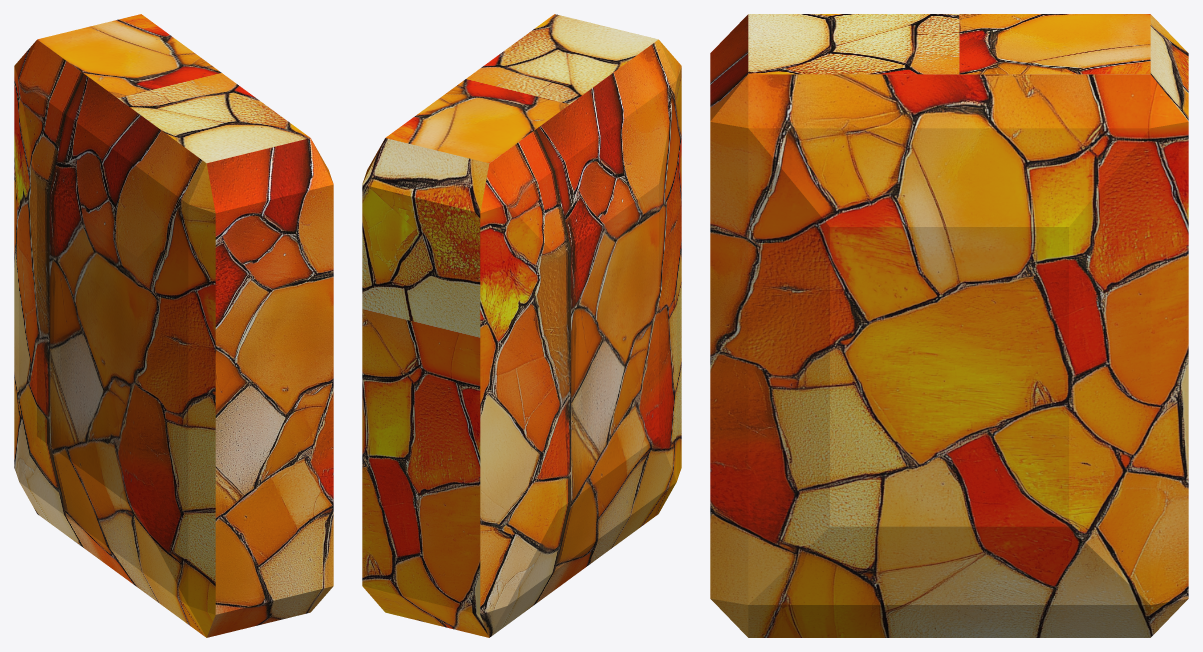
Rendered from gemstone6Orange.glb.
3 views of the same model, side by side, from view 1: azimuth 30°, elevation 25°; view 2: azimuth 150°, elevation 25°; view 3: azimuth 270°, elevation 25° (orthographic). The views are drawn at different scales.
Parts seen in each view (by area): view 1: gemstone5; view 2: gemstone5; view 3: gemstone5.
Part boxes in pixels (bbox=[...]): gemstone5: bbox=[14, 14, 333, 637]; gemstone5: bbox=[362, 14, 681, 637]; gemstone5: bbox=[710, 14, 1188, 637].
Bounding box in the file's own units: 0.5 × 1.3 × 1.
Materials: 1 (1 with a texture image).
